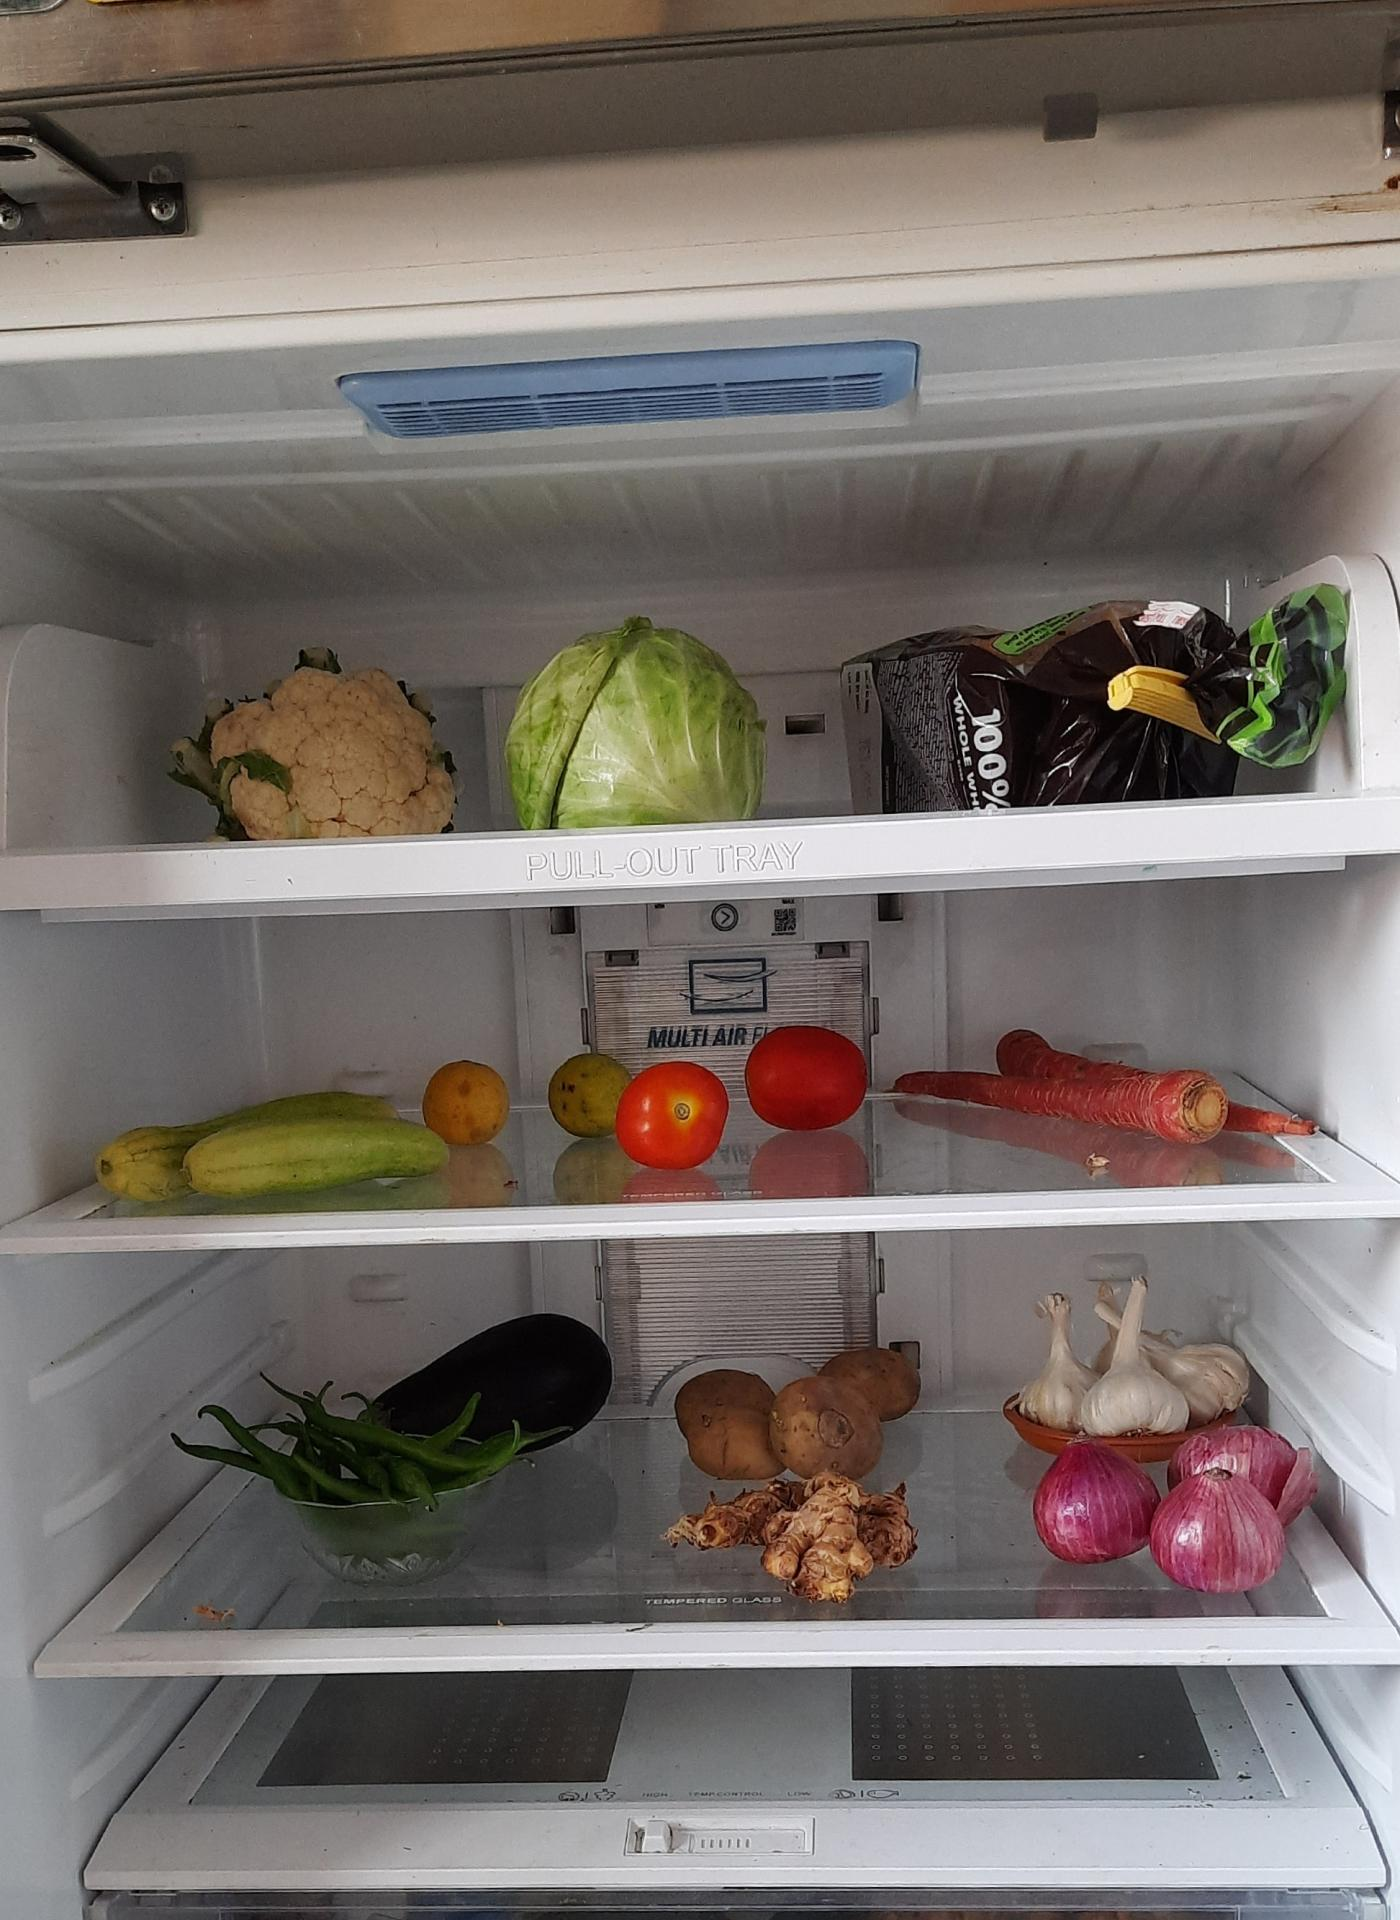bread: (857, 578, 1361, 802)
brinjal: (327, 1295, 623, 1489)
cabbage: (502, 616, 768, 827)
carrots: (893, 1032, 1318, 1151)
cauliflower: (198, 654, 456, 842)
chillies: (213, 1385, 529, 1555)
cucumber: (89, 1096, 446, 1199)
garlic: (1018, 1280, 1252, 1440)
ginger: (665, 1468, 920, 1597)
lemon: (543, 1049, 643, 1154), (422, 1054, 513, 1152)
onion: (1033, 1428, 1319, 1586)
potato: (671, 1334, 917, 1473)
tomato: (744, 1021, 869, 1127), (614, 1055, 731, 1166)
